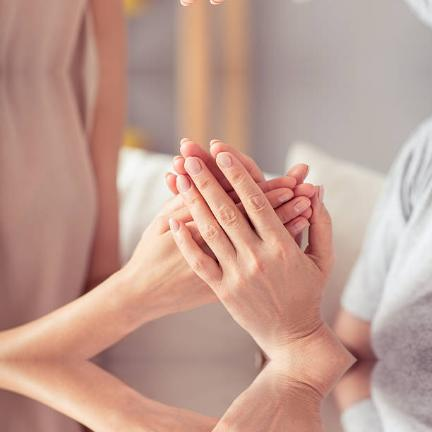Nail: (184, 156, 202, 175), (216, 152, 234, 169), (176, 174, 192, 192), (294, 199, 310, 212), (293, 218, 308, 231), (168, 218, 180, 232), (279, 190, 293, 202), (318, 184, 324, 202)
